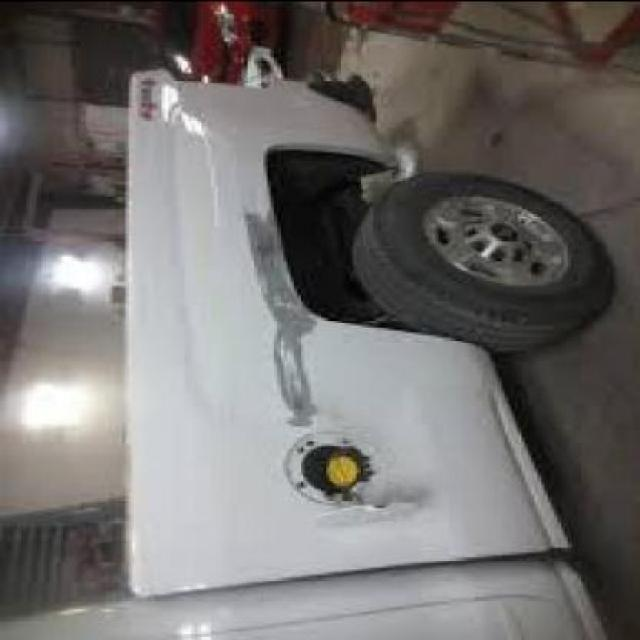damage: (221, 199, 328, 429)
